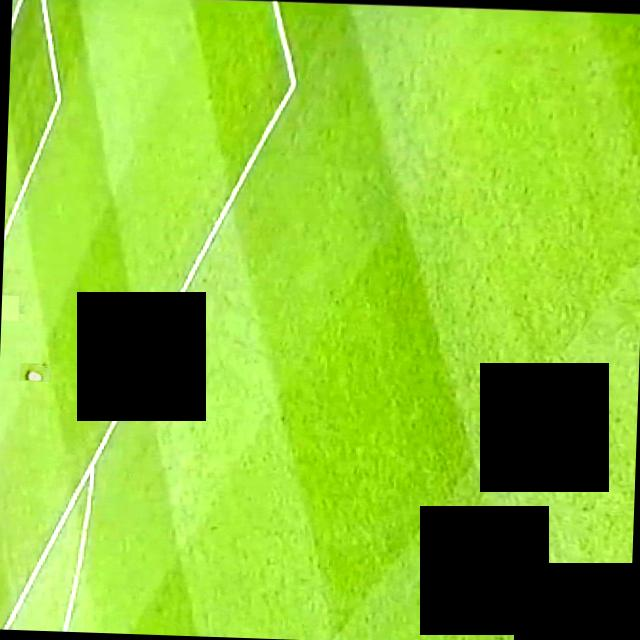ball: (18, 362, 50, 382)
goalkeeper: (0, 294, 17, 320)
